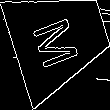M_E: (32, 9, 88, 69)
